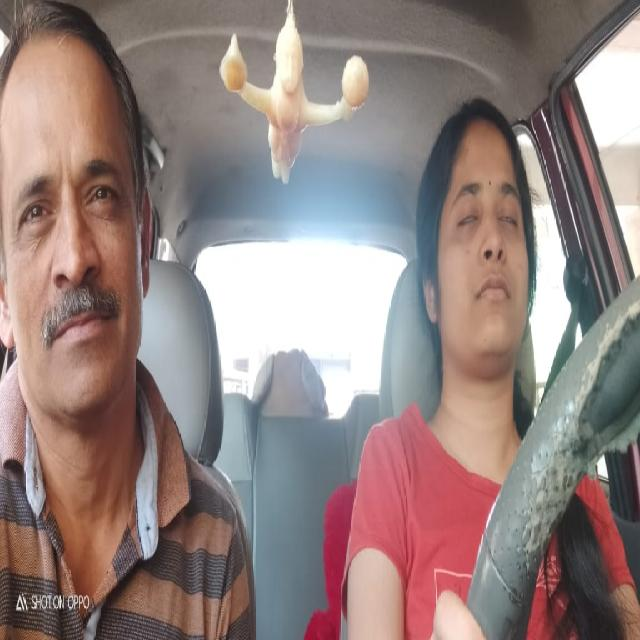drowsy: (416, 74, 544, 408)
person: (1, 0, 167, 435)
